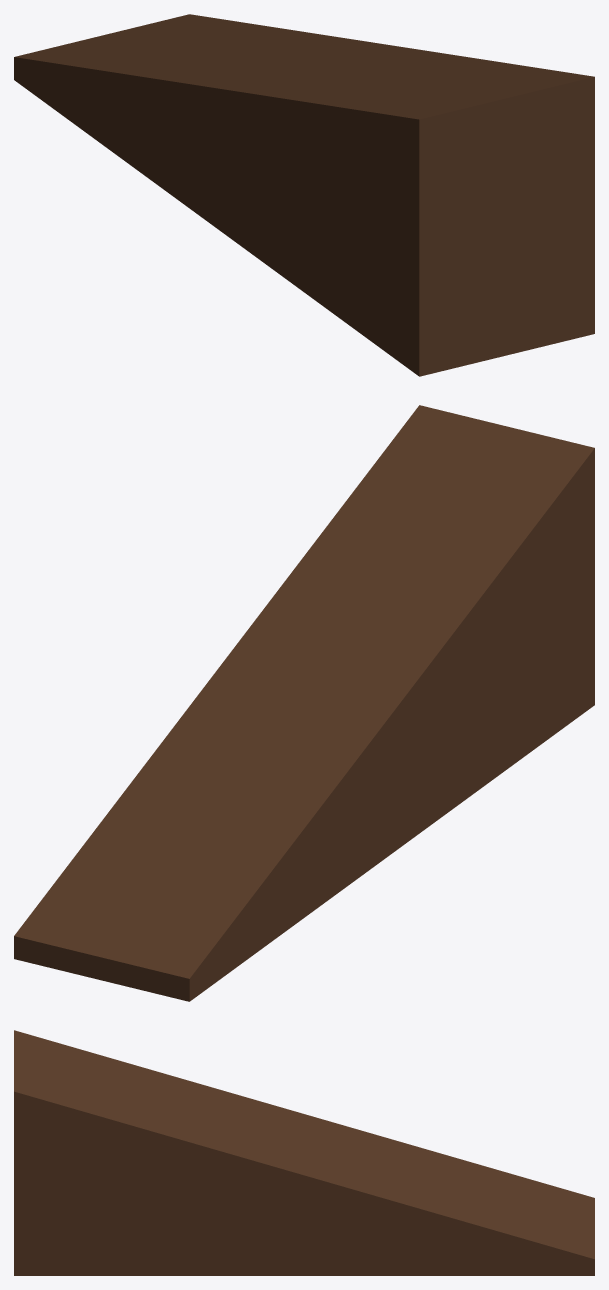
The model's file is BARN_UNDER_RAMP_LODs.fbx.
The picture shows the model from 3 angles, top to bottom: view 1: azimuth 30°, elevation 25°; view 2: azimuth 150°, elevation 25°; view 3: azimuth 270°, elevation 25°; orthographic projection. The views are drawn at different scales.
Visible parts, largest first — view 1: BARN_UNDER_RAMP_LOD0; view 2: BARN_UNDER_RAMP_LOD0; view 3: BARN_UNDER_RAMP_LOD0.
Boxes of the visible parts, x1,y1,x2,y2 form: BARN_UNDER_RAMP_LOD0: (14, 14, 594, 376); BARN_UNDER_RAMP_LOD0: (14, 405, 594, 1001); BARN_UNDER_RAMP_LOD0: (14, 1030, 594, 1275).
Size of what is drawn, in the model's own units: 200 by 280 by 800.
